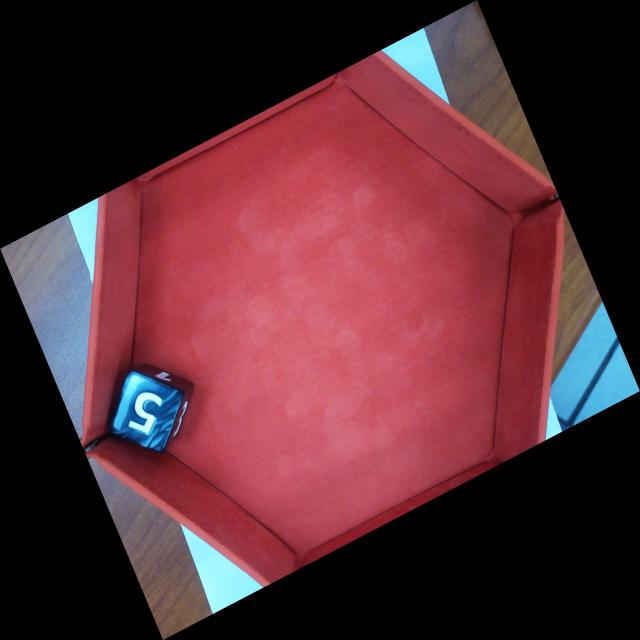dice: (104, 368, 187, 456)
